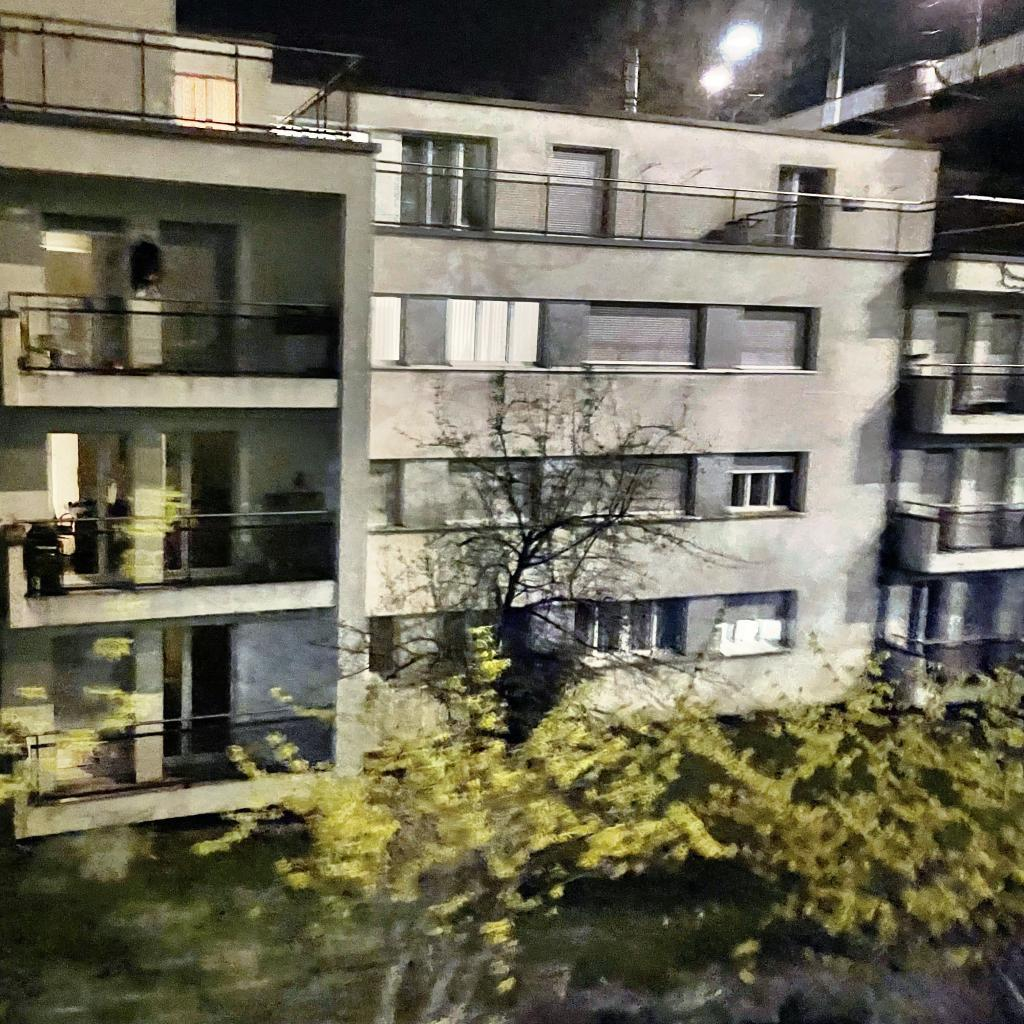balcony-fence: (374, 157, 1024, 257), (0, 7, 370, 143), (21, 702, 335, 809), (3, 288, 341, 380), (9, 508, 330, 597), (903, 497, 1024, 551), (907, 361, 1023, 414), (892, 631, 1024, 666)
vegetation: (0, 364, 1024, 1024)
window: (44, 212, 128, 367), (52, 633, 135, 782), (159, 223, 236, 371), (51, 435, 130, 579), (164, 434, 238, 581), (161, 623, 236, 766), (400, 135, 492, 230), (444, 299, 544, 364), (590, 303, 700, 361), (448, 461, 537, 520), (549, 149, 611, 232), (578, 600, 673, 652), (776, 166, 829, 248), (618, 457, 689, 516), (729, 453, 798, 511), (743, 309, 811, 366), (722, 593, 790, 647)
